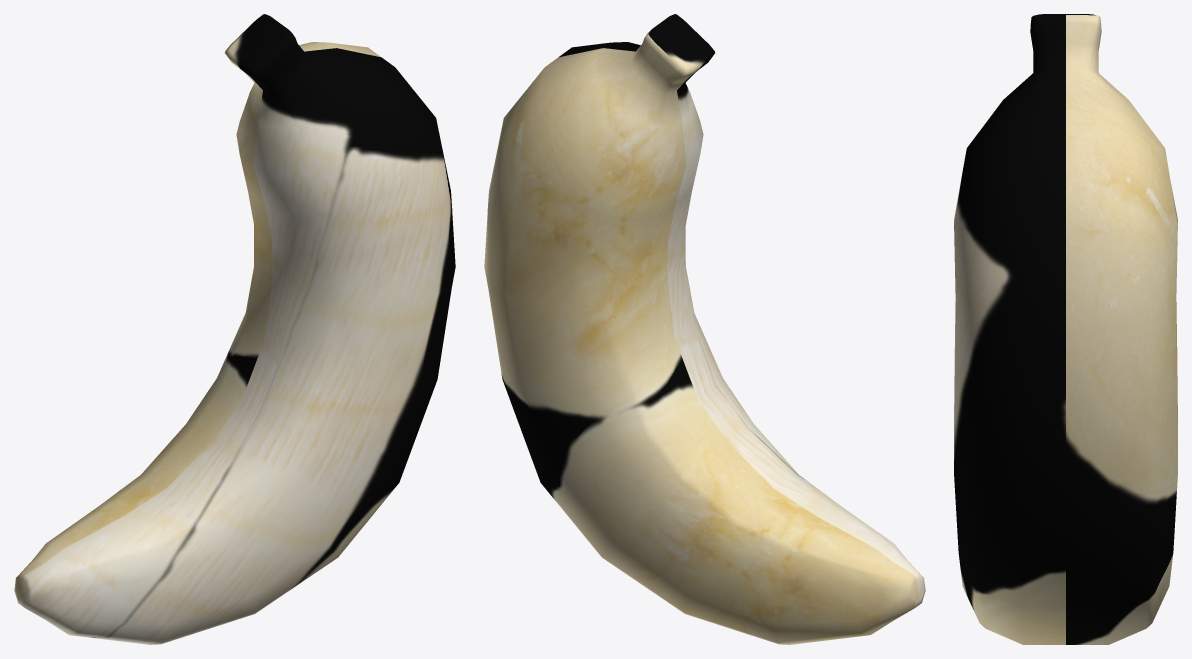
The model's file is banana.fbx.
3 views of the same model, side by side, from view 1: azimuth 30°, elevation 25°; view 2: azimuth 150°, elevation 25°; view 3: azimuth 270°, elevation 25° (orthographic). The views are drawn at different scales.
Parts seen in each view (by area): view 1: Banana_Banana_0; view 2: Banana_Banana_0; view 3: Banana_Banana_0.
Part boxes in pixels (x1,y1,x2,y2): Banana_Banana_0: (14,14,455,644); Banana_Banana_0: (484,14,925,644); Banana_Banana_0: (954,14,1177,644).
Bounding box in the file's own units: 19.12 × 25.3 × 7.65.
